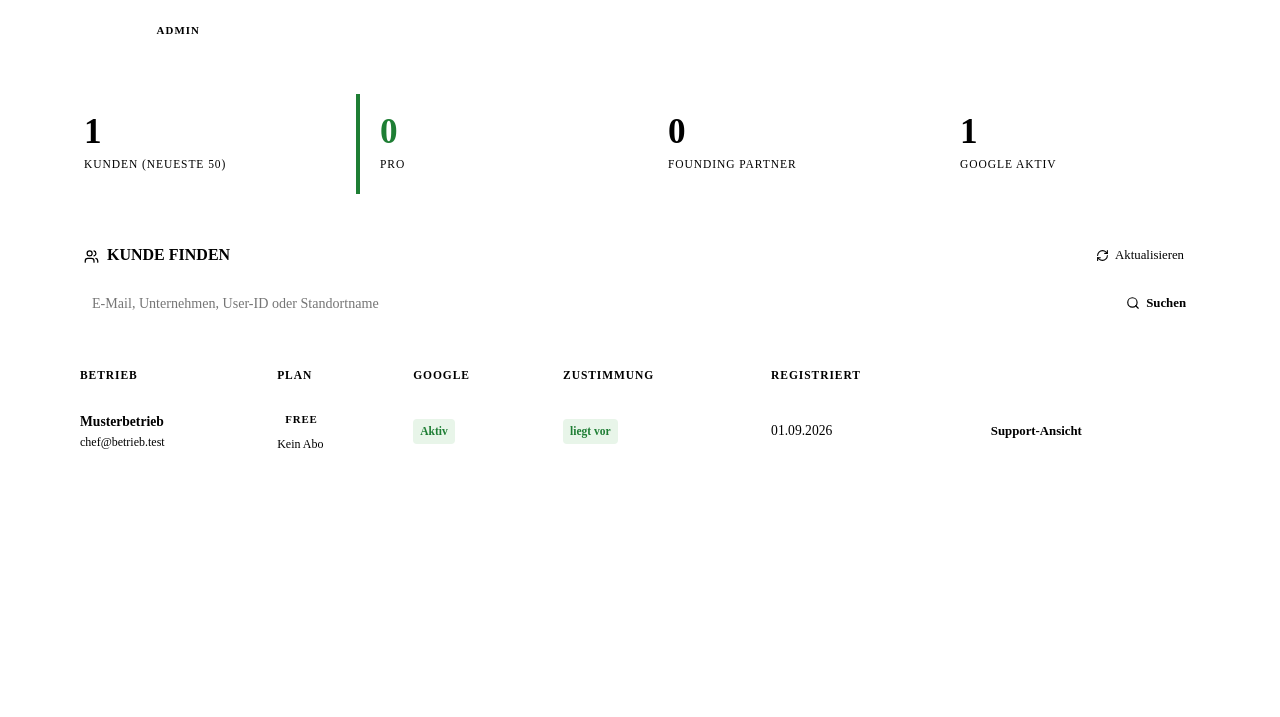
Test case: Support-Ansicht (§6, §30) › zeigt Identität, Entitlement, Zustimmung, Google, Sync und Billing
Click the button "Support-Ansicht".
click(1036, 431)  # box [977,414,1096,449]
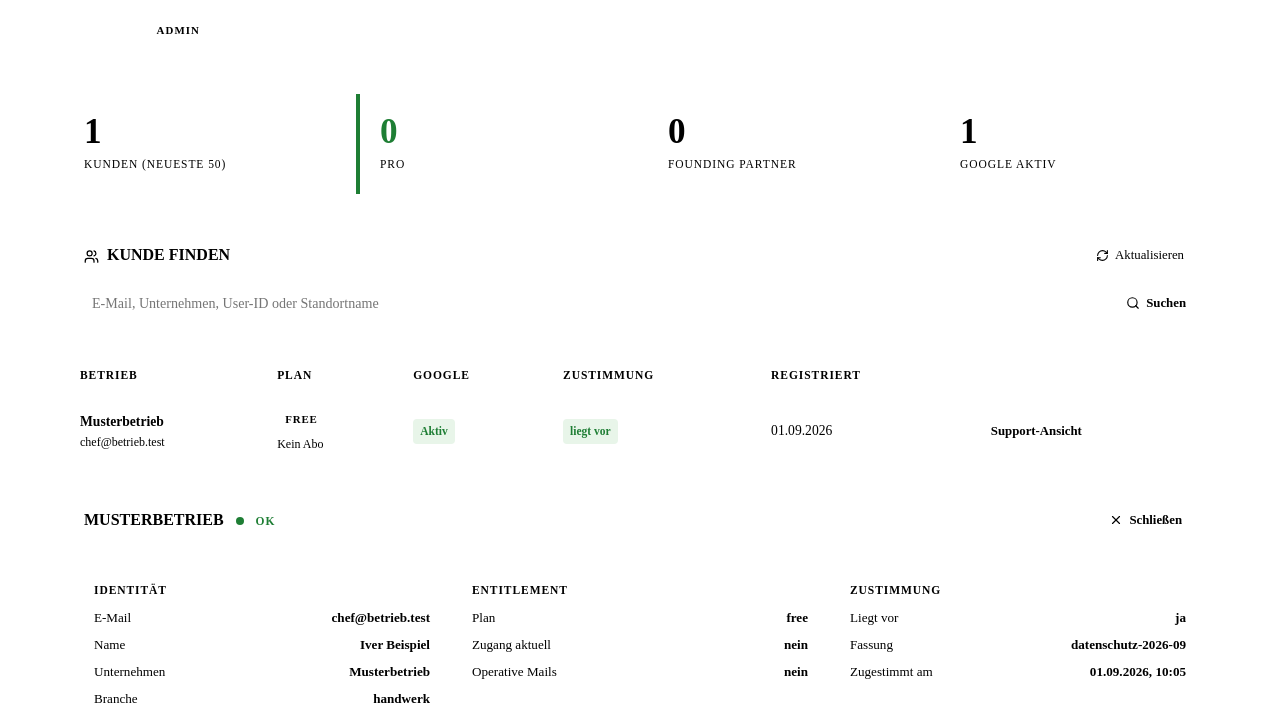
Now the heading "Identität" is shown, box [94,584,167,596]
Now the heading "Entitlement" is shown, box [472,584,568,596]
Now the text "Iver Beispiel" is shown, box [360,634,430,655]
